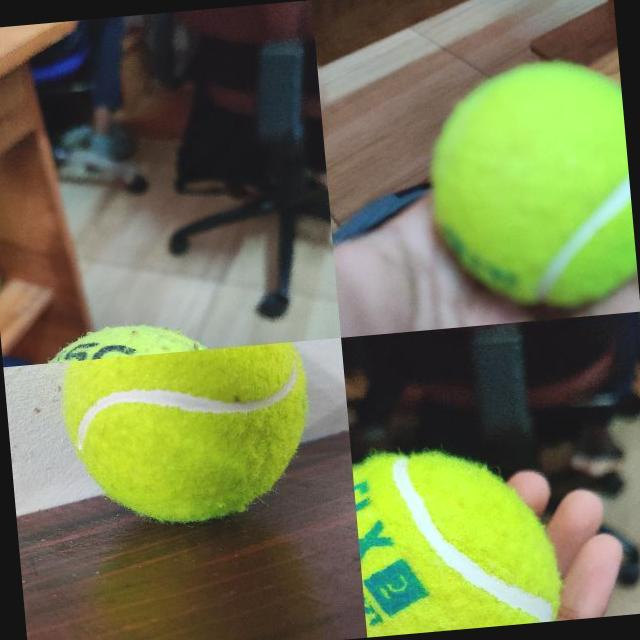Tennis Ball: (420, 55, 638, 316), (56, 341, 320, 534), (351, 442, 562, 636)
